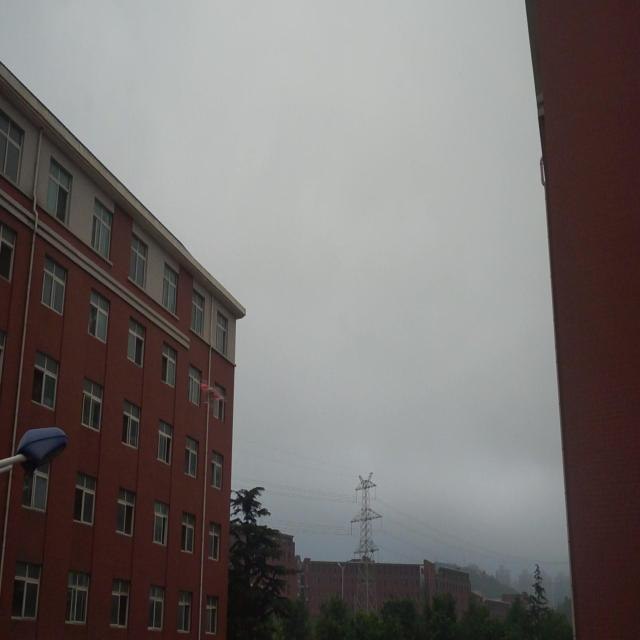drone: (198, 378, 224, 407)
